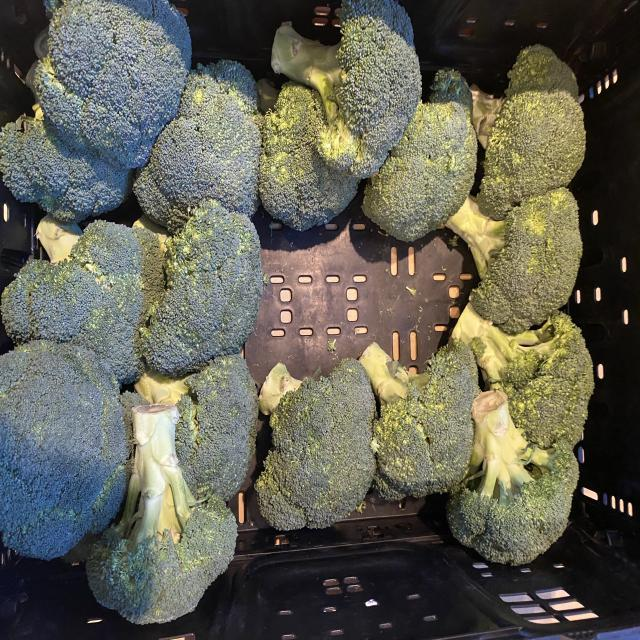Broccoli: (86, 403, 236, 625), (362, 70, 505, 278), (0, 340, 128, 560), (1, 220, 165, 385), (271, 0, 421, 177), (35, 0, 191, 168), (448, 390, 579, 565), (134, 60, 261, 233), (141, 200, 264, 377), (255, 358, 376, 530), (452, 303, 594, 448), (446, 187, 582, 333), (359, 340, 479, 500), (476, 45, 585, 220), (259, 82, 359, 232), (0, 118, 130, 222), (176, 355, 259, 502)
